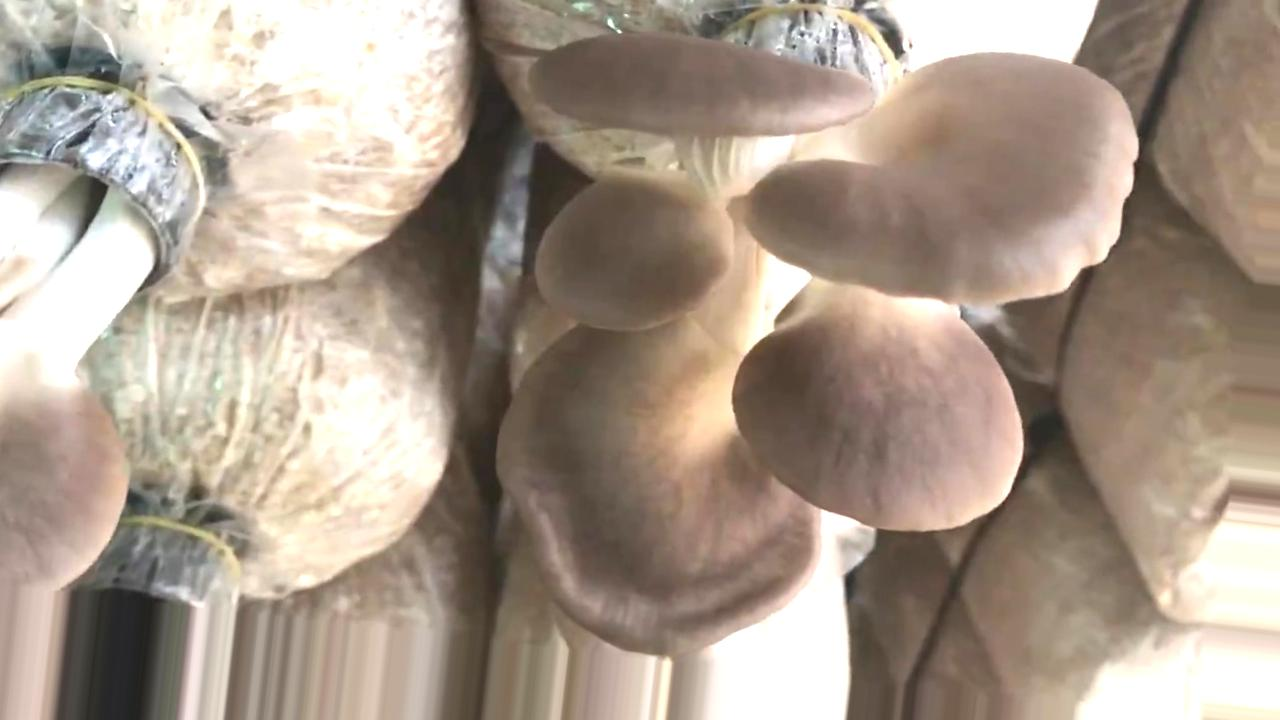nam: (493, 1, 1140, 651), (1, 74, 204, 720)
